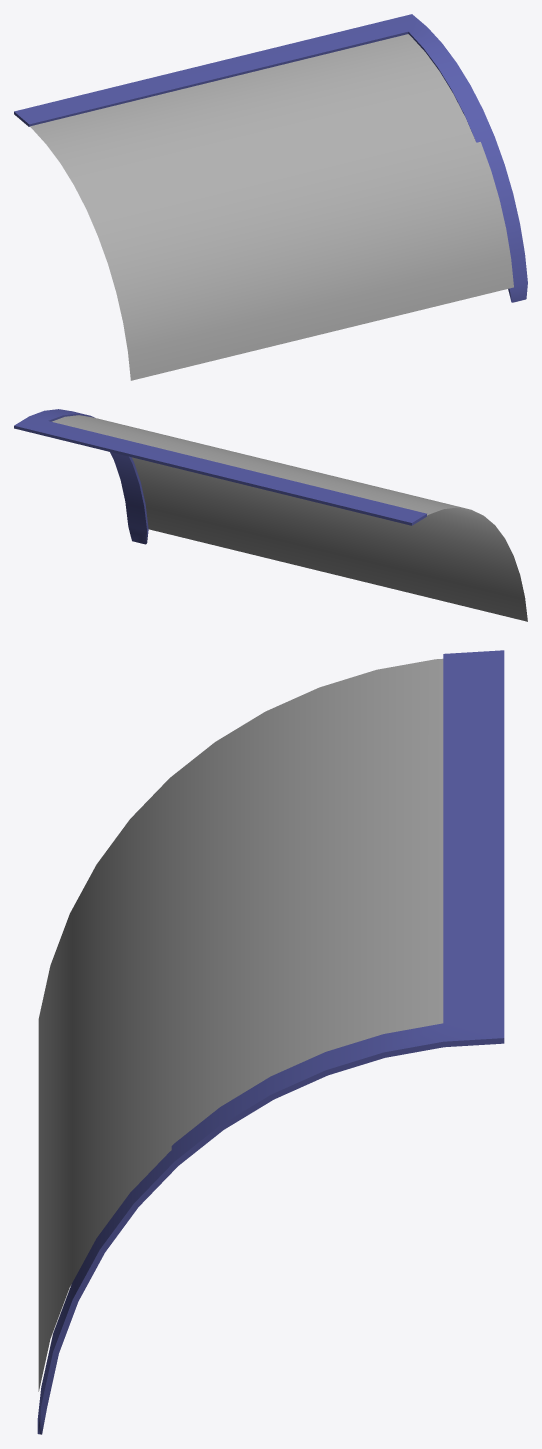
The model's file is protector1.fbx.
The picture shows the model from 3 angles, top to bottom: view 1: azimuth 30°, elevation 25°; view 2: azimuth 150°, elevation 25°; view 3: azimuth 270°, elevation 25°; orthographic projection. The views are drawn at different scales.
Parts seen in each view (by area): view 1: polySurface389; view 2: polySurface389; view 3: polySurface389.
Part boxes in pixels (x1,y1,x2,y2): polySurface389: (14,14,527,380); polySurface389: (14,409,527,621); polySurface389: (37,650,504,1434).
Size of the model in its own units: 1267 by 607 by 643.
